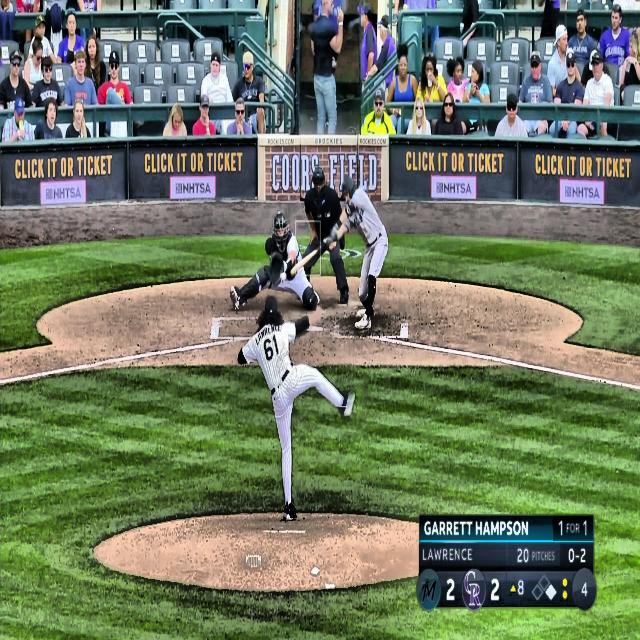baseball: (279, 271, 287, 282)
